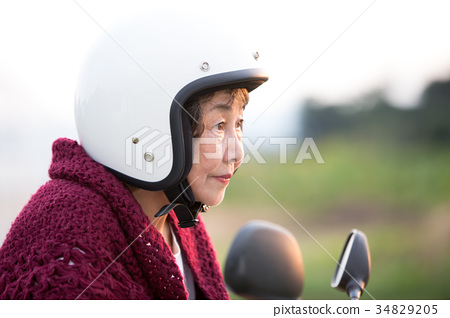helmet: (81, 16, 252, 153)
